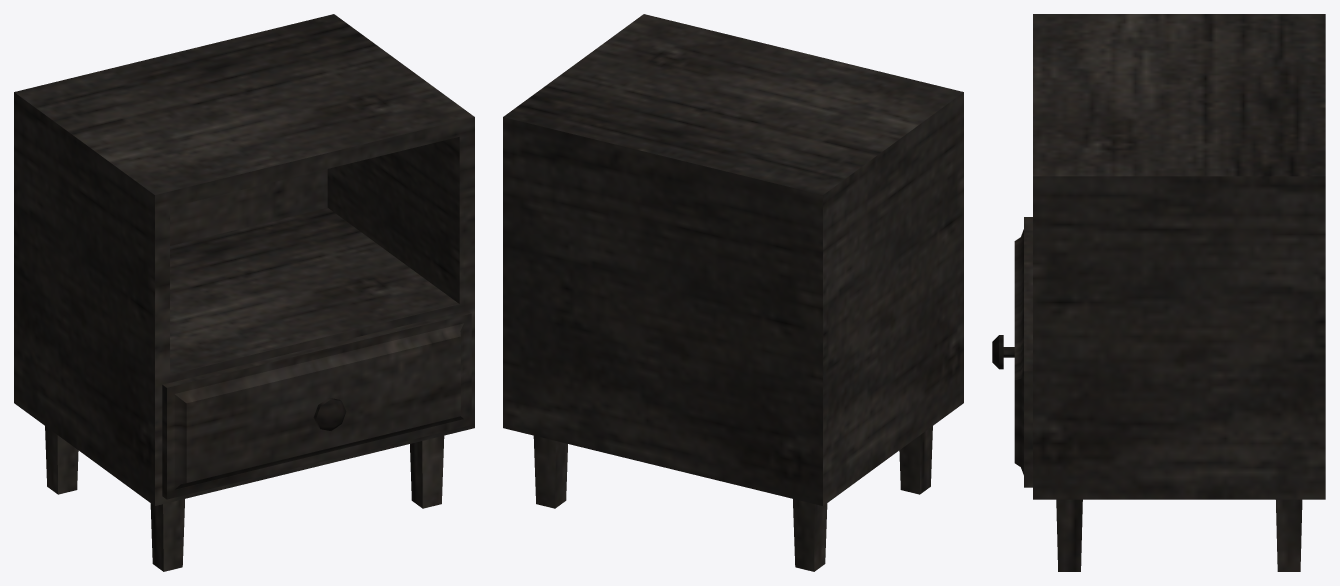
File: bedside_table_2.fbx
The picture shows the model from 3 angles, left to right: view 1: azimuth 30°, elevation 25°; view 2: azimuth 150°, elevation 25°; view 3: azimuth 270°, elevation 25°; orthographic projection. The views are drawn at different scales.
Parts seen in each view (by area): view 1: bedside_table_2, bedside_table_2_drawer; view 2: bedside_table_2; view 3: bedside_table_2, bedside_table_2_drawer.
Part boxes in pixels (<box>): bedside_table_2: <box>14,14,474,571</box>; bedside_table_2_drawer: <box>162,310,471,499</box>; bedside_table_2: <box>503,14,963,571</box>; bedside_table_2: <box>1033,14,1325,571</box>; bedside_table_2_drawer: <box>992,217,1032,487</box>.
Bounding box in the file's own units: 0.42 × 0.3645 × 0.49.
